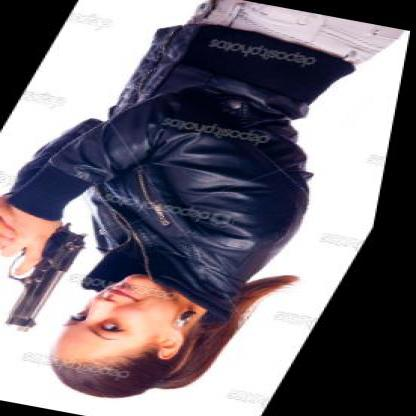pistol: (0, 210, 107, 334)
